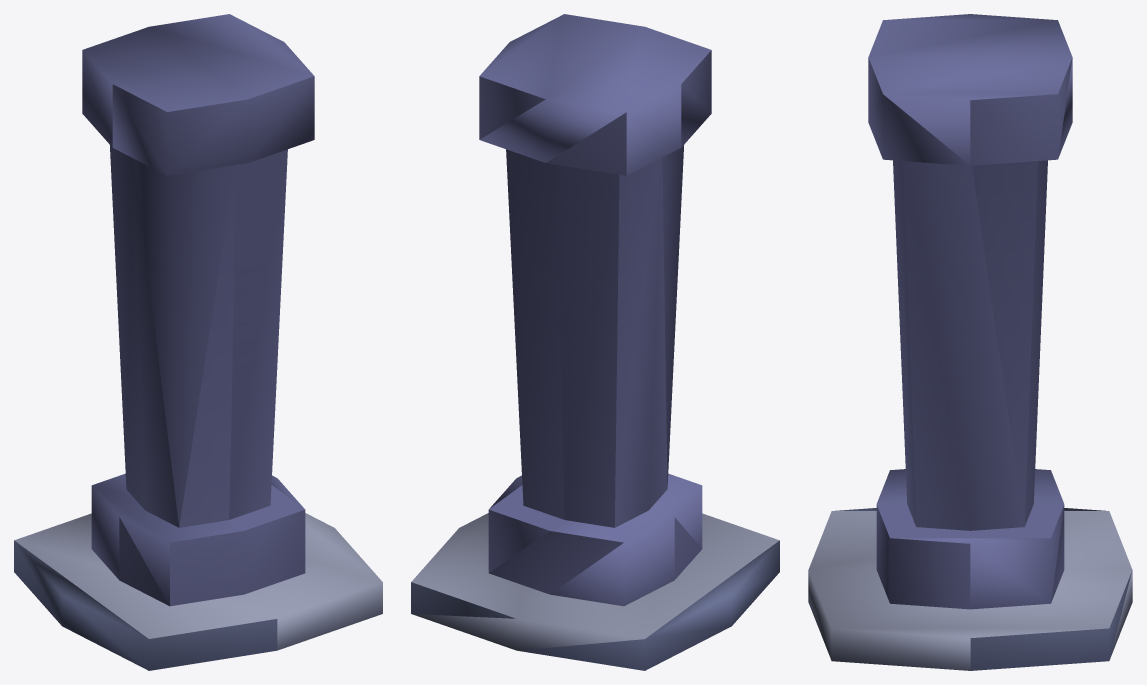
File: template-detail_lev2.glb
3 views of the same model, side by side, from view 1: azimuth 30°, elevation 25°; view 2: azimuth 150°, elevation 25°; view 3: azimuth 270°, elevation 25° (orthographic). The views are drawn at different scales.
Visible parts, largest first — view 1: template-detail_lev2; view 2: template-detail_lev2; view 3: template-detail_lev2.
Boxes of the visible parts, box(x1,y1,x2,y2) form: template-detail_lev2: box(14, 14, 382, 670); template-detail_lev2: box(411, 14, 779, 670); template-detail_lev2: box(808, 14, 1132, 670).
Size of the model in its own units: 1.79 by 3.33 by 1.79.
Materials: 1 (1 with a texture image).
